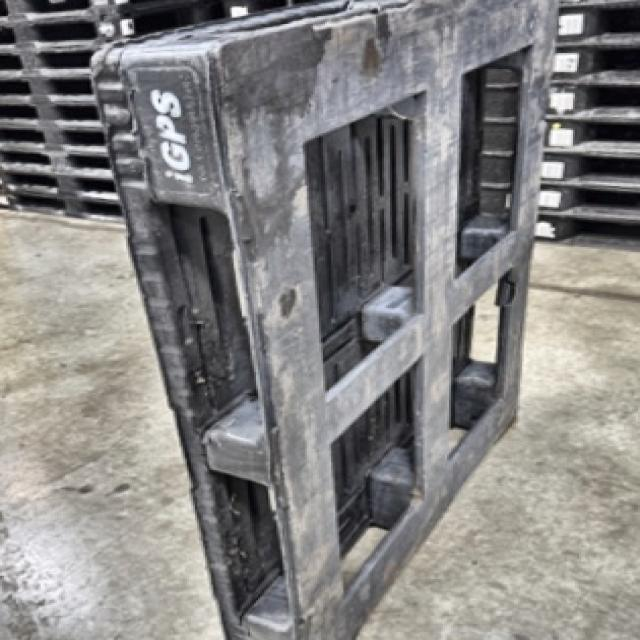igps: (85, 0, 564, 638), (0, 0, 145, 240), (516, 0, 640, 265)
